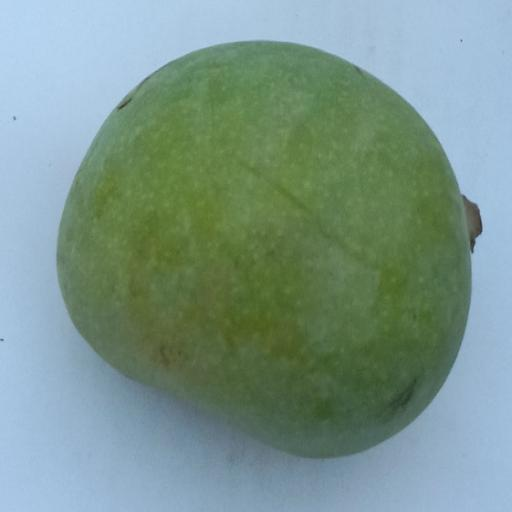mango-unripe: (53, 27, 504, 435)
